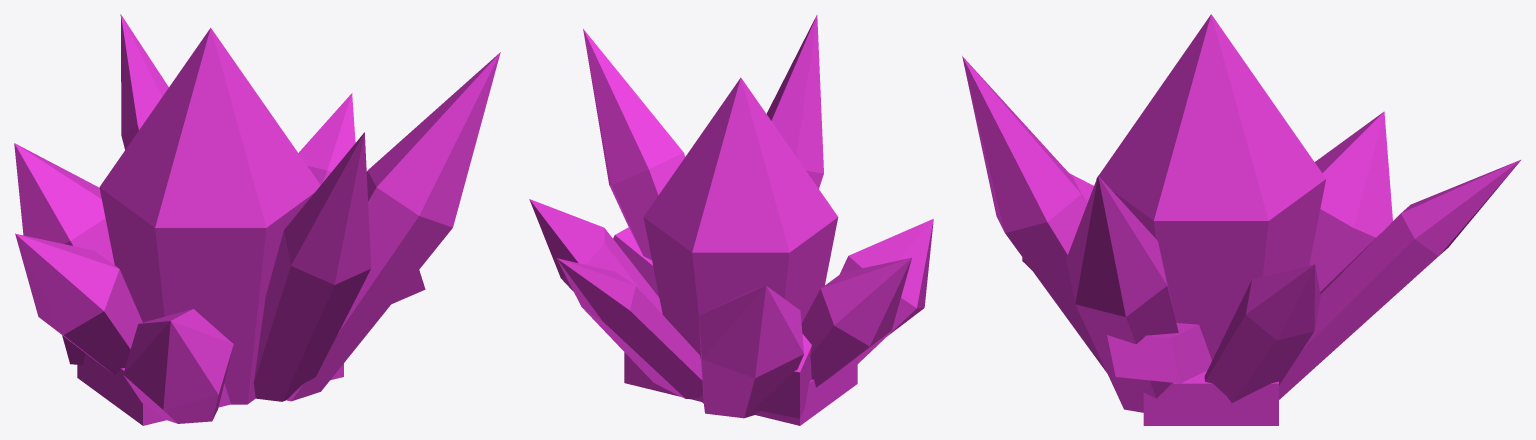
The model's file is Crystal Chunk 2.fbx.
3 views of the same model, side by side, from view 1: azimuth 30°, elevation 25°; view 2: azimuth 150°, elevation 25°; view 3: azimuth 270°, elevation 25° (orthographic). The views are drawn at different scales.
Parts seen in each view (by area): view 1: Crystal Chunk 2; view 2: Crystal Chunk 2; view 3: Crystal Chunk 2.
Boxes of the visible parts, x1,y1,x2,y2 form: Crystal Chunk 2: (14,14,500,425); Crystal Chunk 2: (529,14,933,425); Crystal Chunk 2: (962,14,1520,425).
Size of the model in its own units: 429 by 333 by 467.
